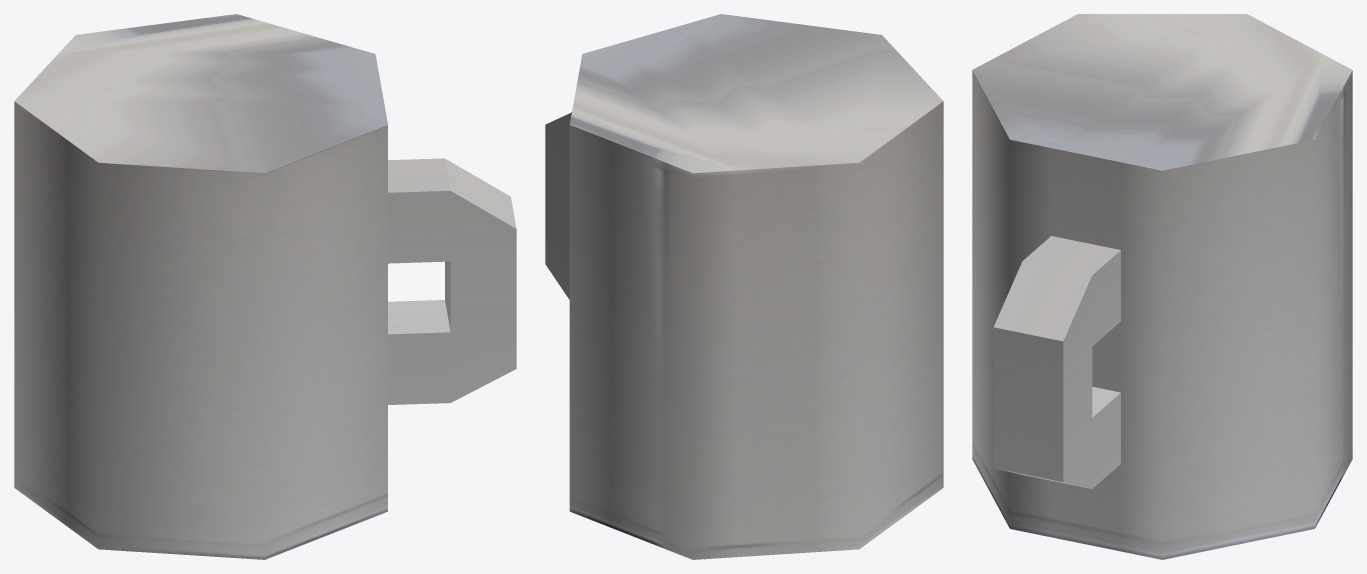
File: mug2.FBX
The picture shows the model from 3 angles, left to right: view 1: azimuth 30°, elevation 25°; view 2: azimuth 150°, elevation 25°; view 3: azimuth 270°, elevation 25°; orthographic projection.
Parts seen in each view (by area): view 1: Cylinder001; view 2: Cylinder001; view 3: Cylinder001.
Part boxes in pixels (bbox=[...]): Cylinder001: bbox=[14, 14, 516, 559]; Cylinder001: bbox=[545, 14, 943, 559]; Cylinder001: bbox=[972, 14, 1352, 559].
Bounding box in the file's own units: 54.13 × 49.35 × 43.73.
Materials: 3 (3 with a texture image).
